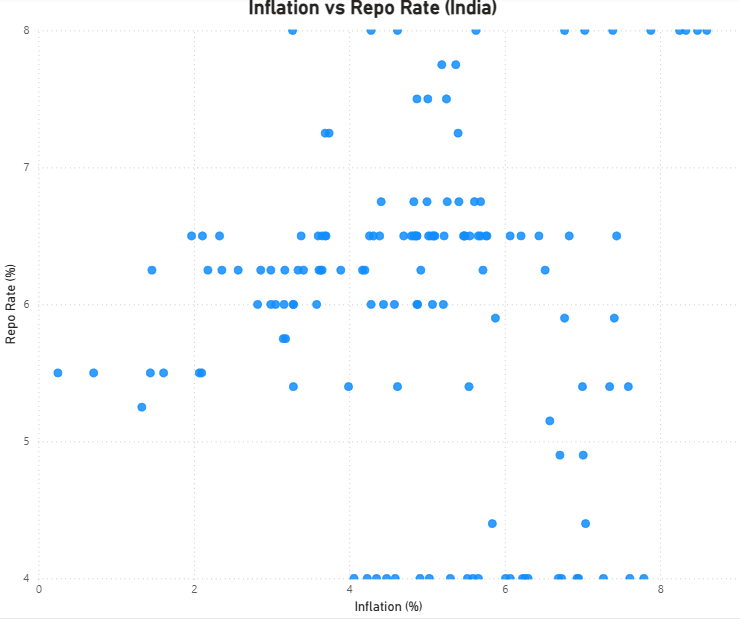

What the dashboard file says about the page in this screenshot:
{"tool":"powerbi","page":{"name":"Page 2","canvas":[1280,720],"ordinal":1},"visuals":[{"type":"scatterChart","title":"Inflation vs Repo Rate (India)","fields":{"X":["Avg(indian_macro_data.INFLATION)"],"Y":["Avg(indian_macro_data.REPO RATE)"],"Category":["indian_macro_data.DATE"]},"box":[9.6,0,820.6,683.4],"z":0}]}

Visuals, with their boxes on the page's 1280x720 design canvas (x1, y1, x2, y2). These are canvas units, not pixel positions in the 740x621 screenshot, which may show the page scaled, cropped or inside an application window:
"Inflation vs Repo Rate (India)" scatterChart: x1=10 y1=0 x2=830 y2=683
